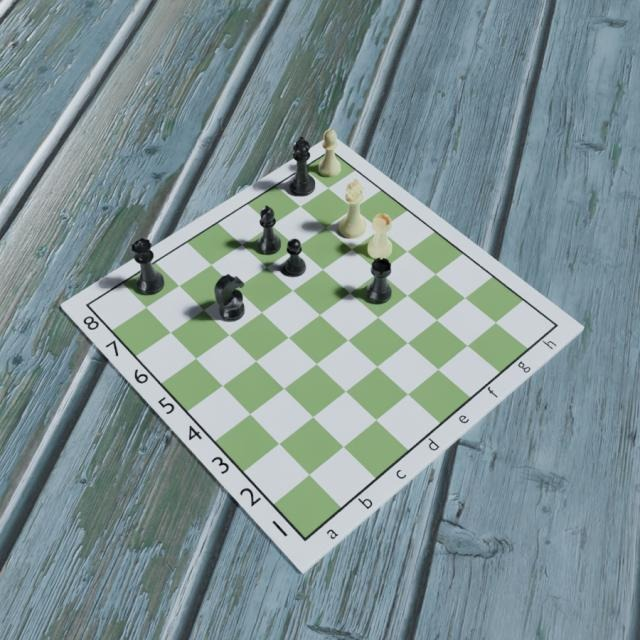black-bishop: (257, 203, 281, 257)
black-king: (288, 134, 316, 198)
black-knight: (214, 272, 246, 324)
black-pawn: (281, 237, 306, 279)
black-queen: (130, 236, 166, 296)
black-rook: (366, 256, 393, 305)
white-bishop: (319, 126, 341, 182)
white-king: (337, 178, 366, 242)
white-rook: (366, 211, 394, 261)
